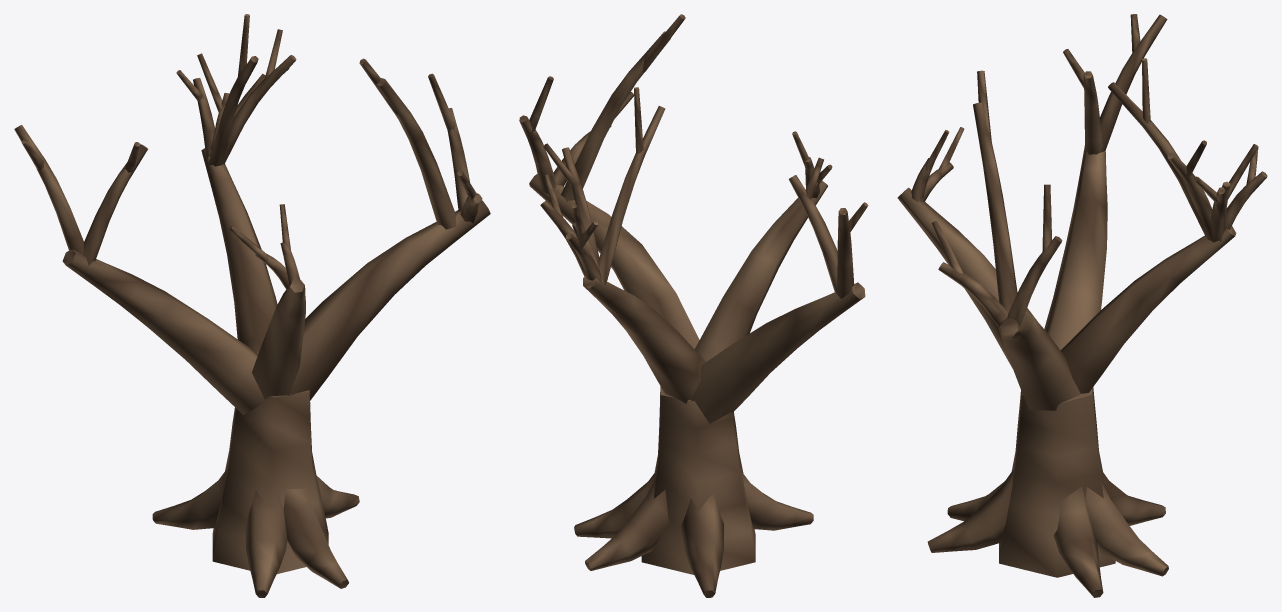
Rendered from SM_StylizedBareTree2.fbx.
3 views of the same model, side by side, from view 1: azimuth 30°, elevation 25°; view 2: azimuth 150°, elevation 25°; view 3: azimuth 270°, elevation 25° (orthographic). The views are drawn at different scales.
Parts seen in each view (by area): view 1: SM_StylizedBareTree2; view 2: SM_StylizedBareTree2; view 3: SM_StylizedBareTree2.
Part boxes in pixels (box(x1,y1,x2,y2)): SM_StylizedBareTree2: box(14, 14, 490, 597); SM_StylizedBareTree2: box(519, 14, 868, 597); SM_StylizedBareTree2: box(897, 14, 1267, 597).
Size of what is drawn, in the model's own units: 4.88 by 5.79 by 3.84.
